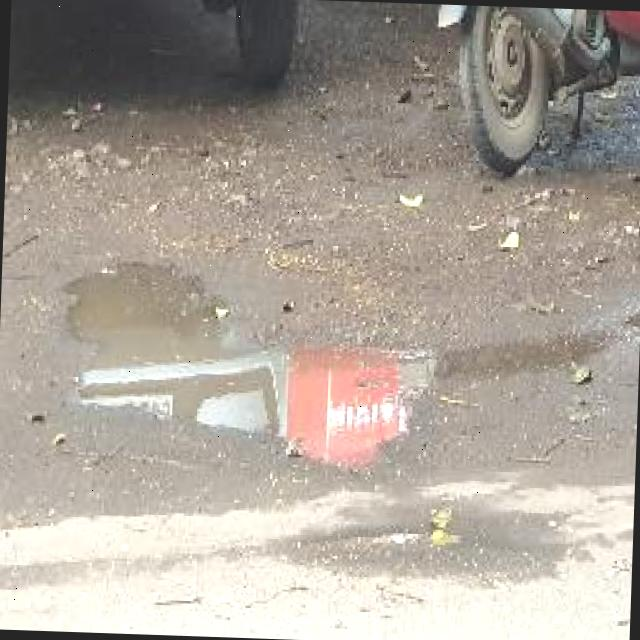stagnation: (44, 236, 620, 524)
